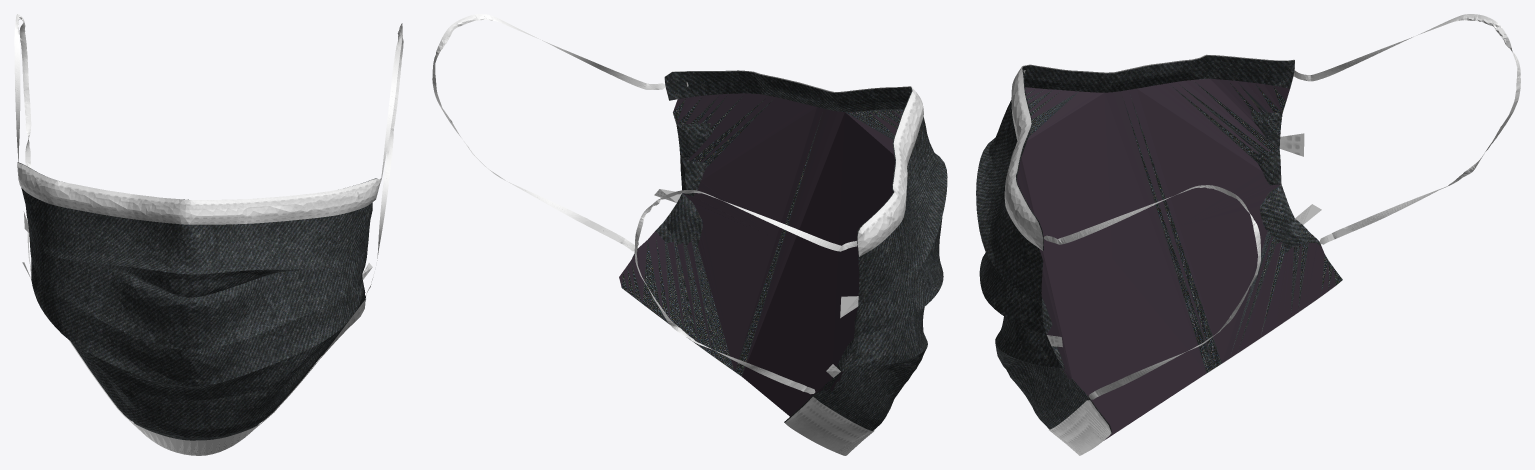
File: mask.glb
The picture shows the model from 3 angles, left to right: view 1: azimuth 30°, elevation 25°; view 2: azimuth 150°, elevation 25°; view 3: azimuth 270°, elevation 25°; orthographic projection. The views are drawn at different scales.
Size of the model in its own units: 17.75 by 14.8 by 17.65.
Materials: 5 (4 with a texture image).
